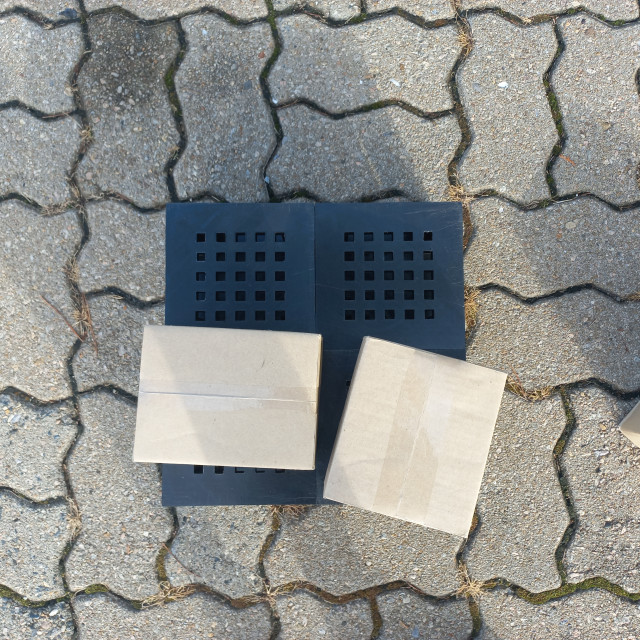box: (130, 100, 319, 306), (315, 167, 508, 317)
